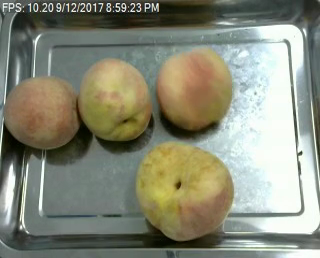Peach: (135, 141, 234, 242), (157, 46, 234, 132), (77, 58, 151, 140), (4, 75, 78, 149)
